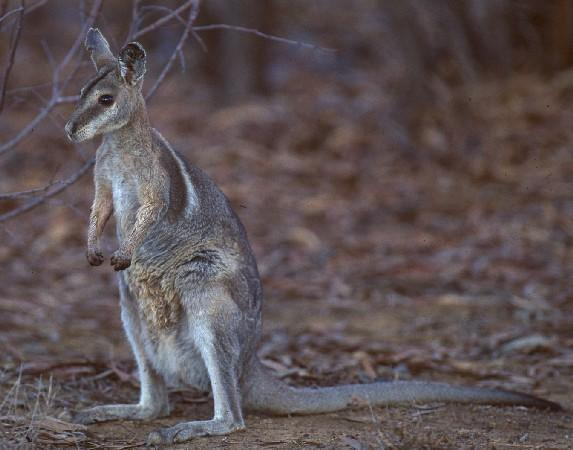Bridled-nail-tail wallaby: (61, 23, 573, 450)
